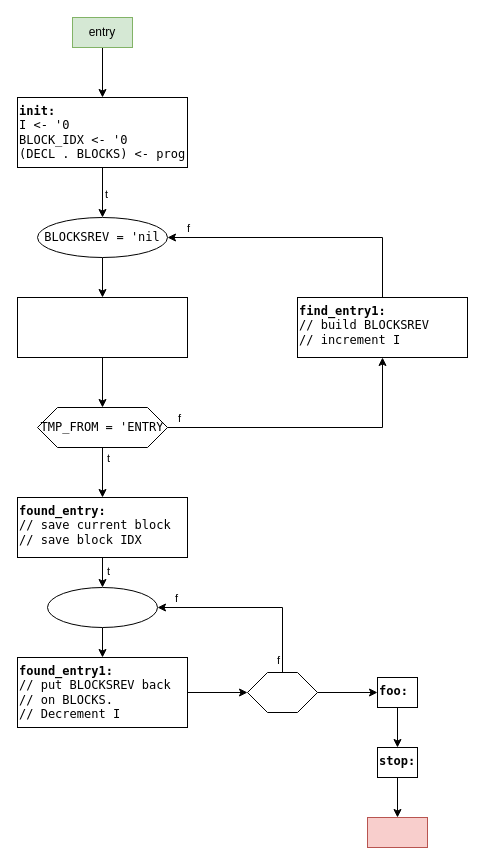
This 485x865 diagram has some shape labels left out. Here are the shapes that lost their labels. From the top down, the box of each, then its label:
(16, 296, 188, 358): find_entry: // traverse BLOCKS
(46, 586, 158, 628): I = BLOCK_IDX
(246, 672, 318, 712): I = '0
(366, 816, 428, 848): exit
